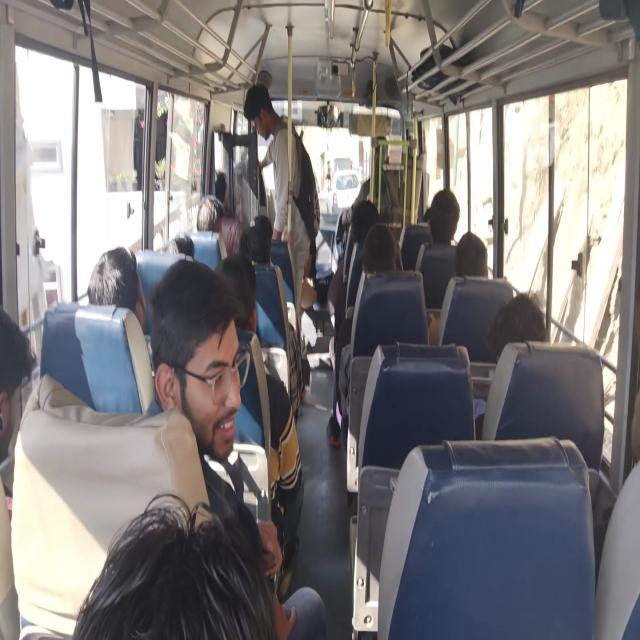person: (81, 508, 279, 640), (145, 265, 253, 435), (0, 356, 53, 432), (486, 307, 548, 368), (417, 186, 465, 258), (245, 67, 285, 142), (365, 229, 410, 295), (219, 243, 254, 311), (352, 204, 399, 250), (239, 219, 279, 267), (83, 249, 120, 295), (453, 232, 491, 276), (195, 188, 222, 236), (175, 229, 195, 264), (215, 180, 236, 202)
